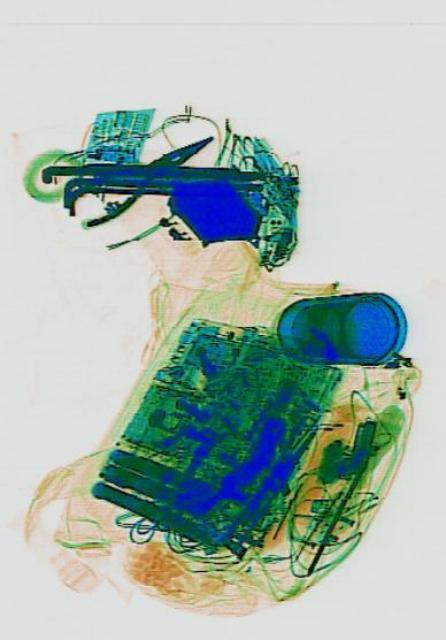Pliers: (60, 116, 219, 236)
